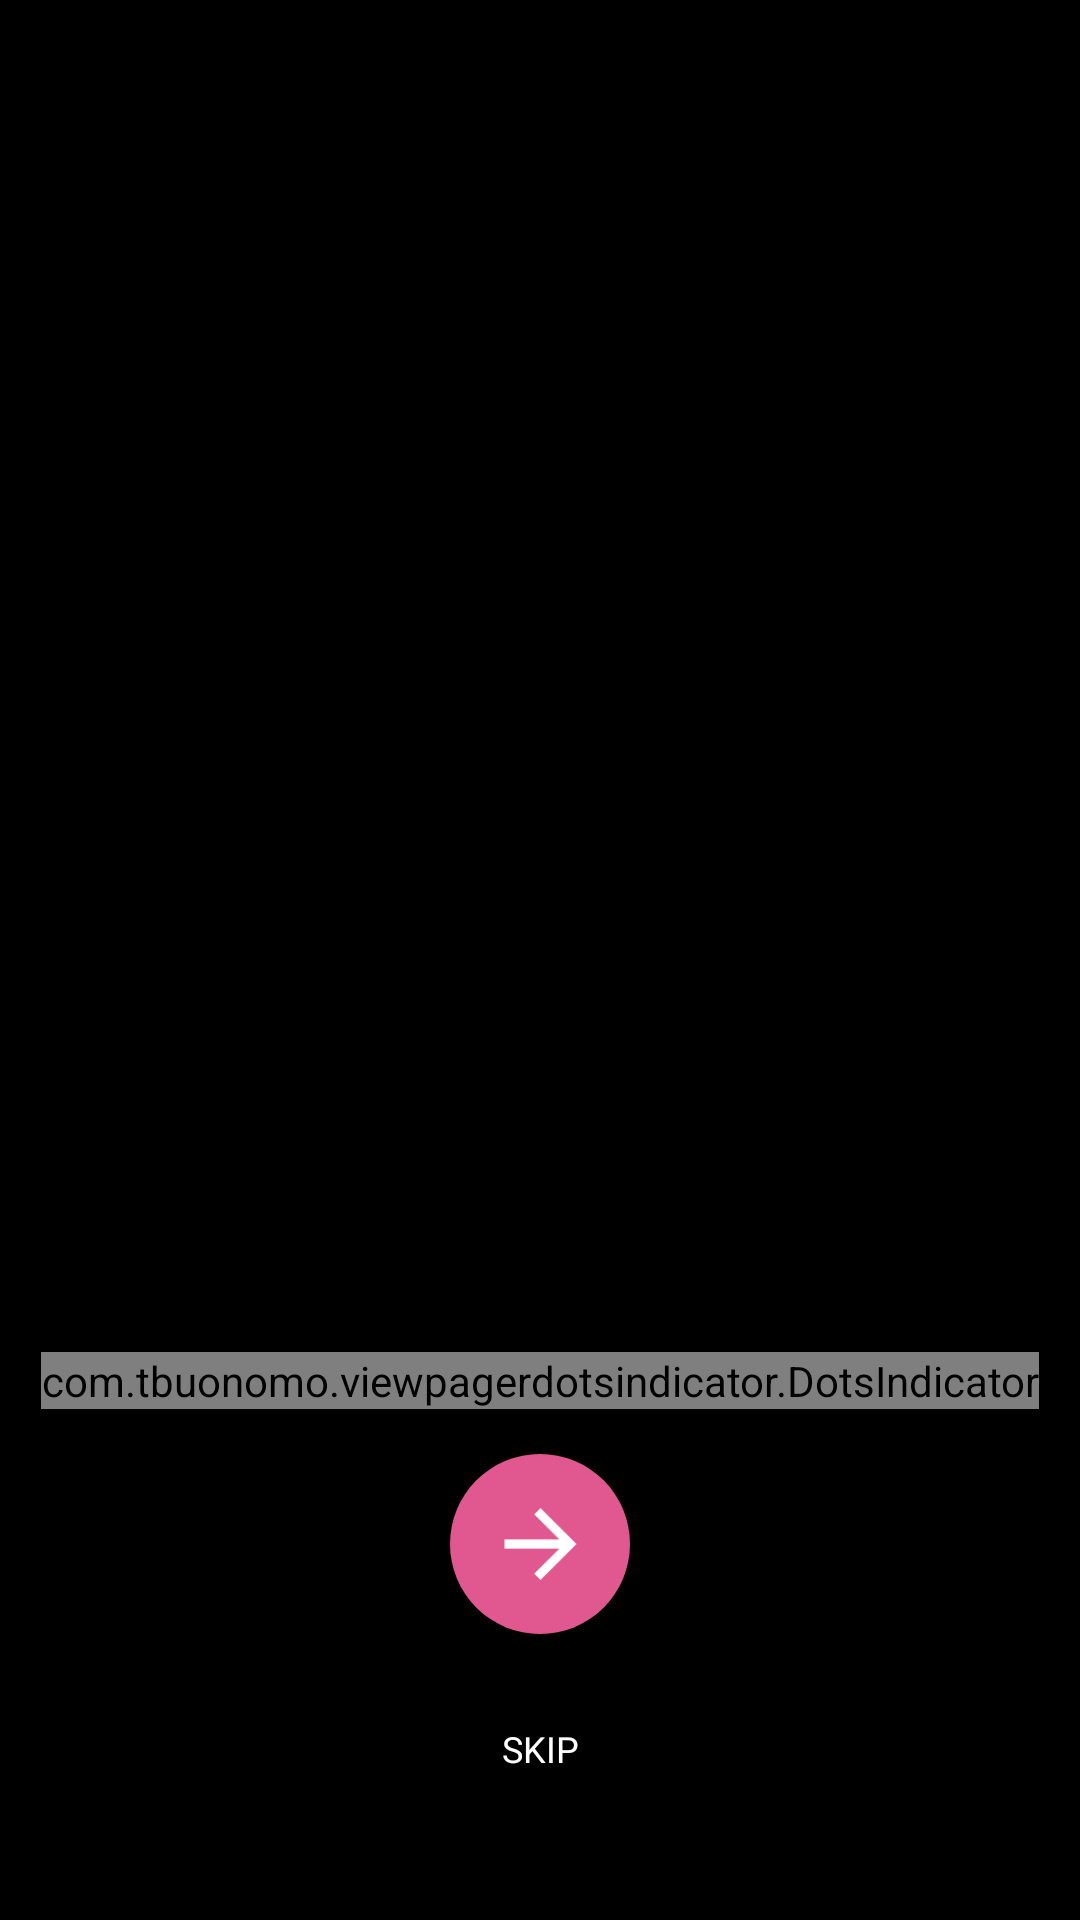

Point at icon controls on the screen. Image size 1080*1920, points as (x=x, y=y).
next arrow: (x=540, y=1544)
